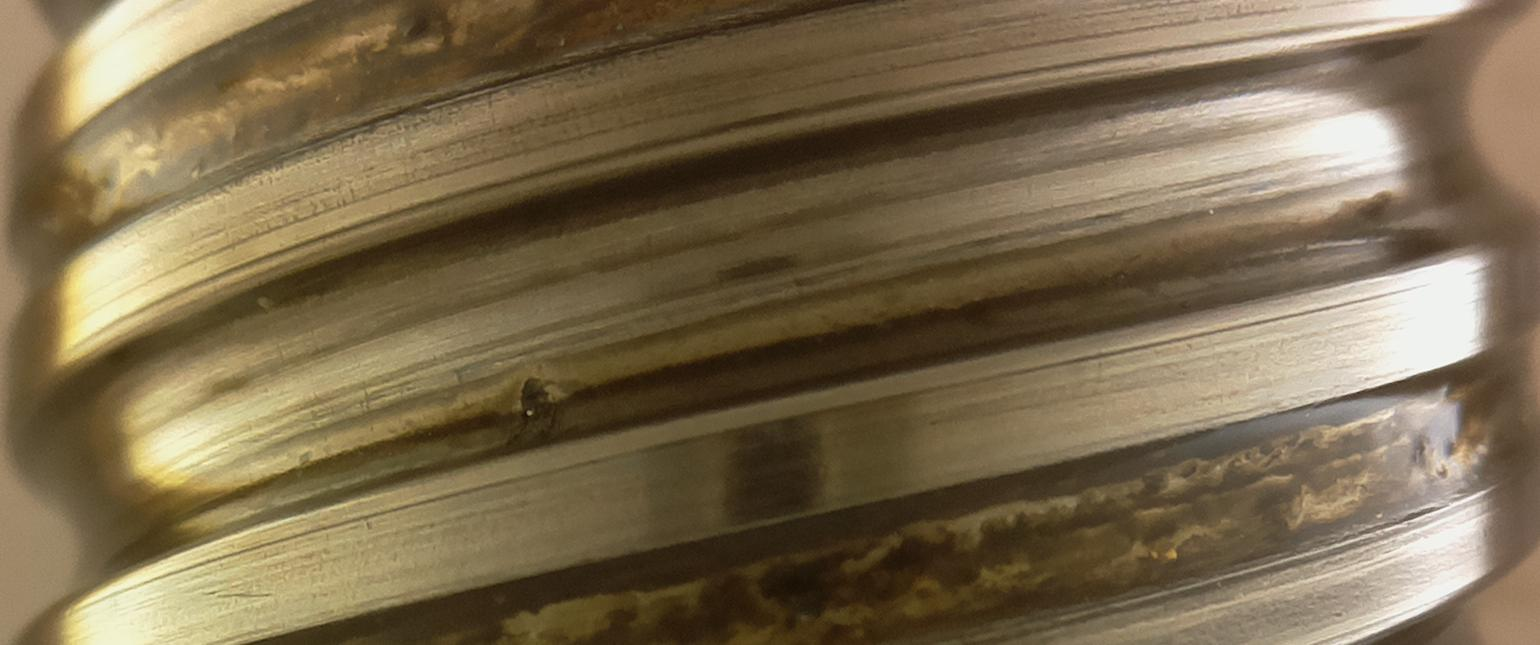pitting: (504, 377, 593, 453)
